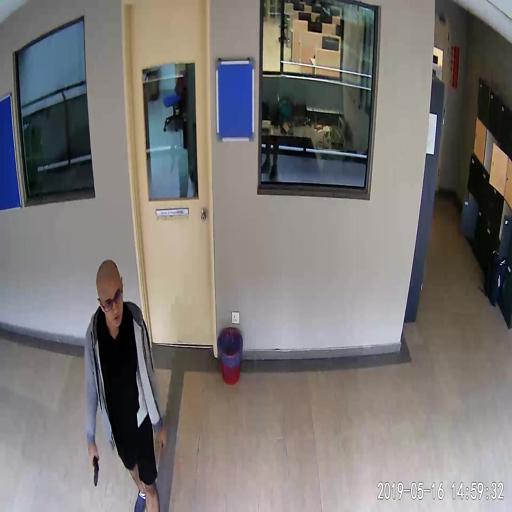pistol: (90, 452, 99, 486)
